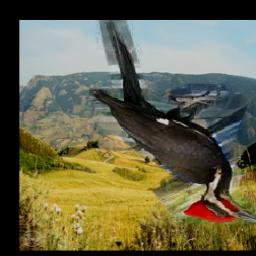Woodpecker: (90, 20, 256, 224)
